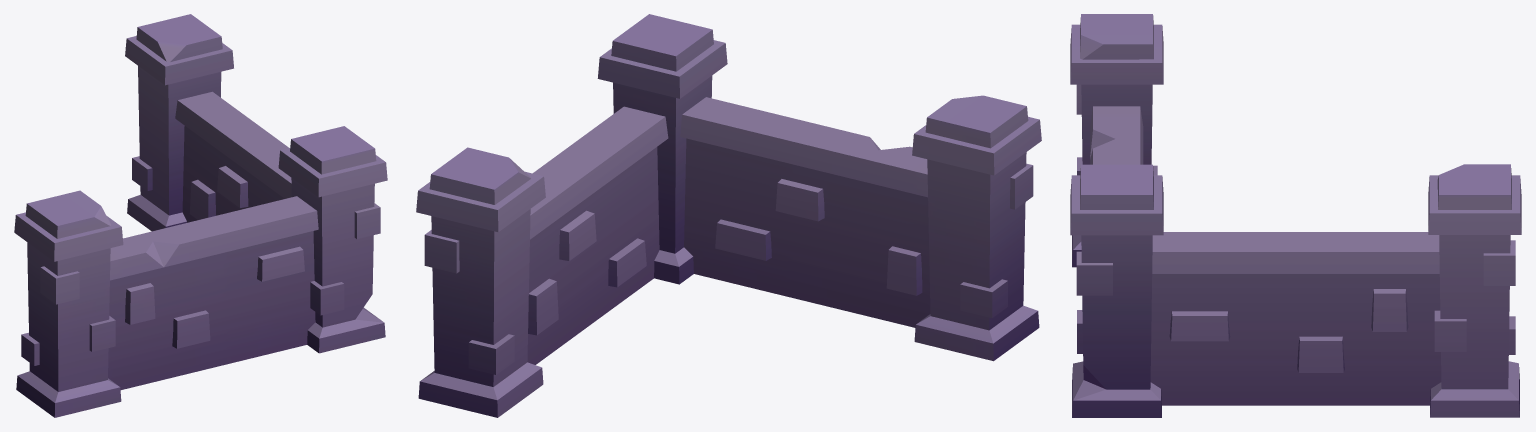
Rendered from wallCorner.glb.
3 views of the same model, side by side, from view 1: azimuth 30°, elevation 25°; view 2: azimuth 150°, elevation 25°; view 3: azimuth 270°, elevation 25° (orthographic). The views are drawn at different scales.
Visible parts, largest first — view 1: wallCorner; view 2: wallCorner; view 3: wallCorner.
Boxes of the visible parts, bbox=[...] form: wallCorner: bbox=[14, 14, 387, 417]; wallCorner: bbox=[416, 14, 1041, 417]; wallCorner: bbox=[1070, 14, 1521, 417].
Bounding box in the file's own units: 4.44 × 2.39 × 4.45.
1 material, 1 textured.
